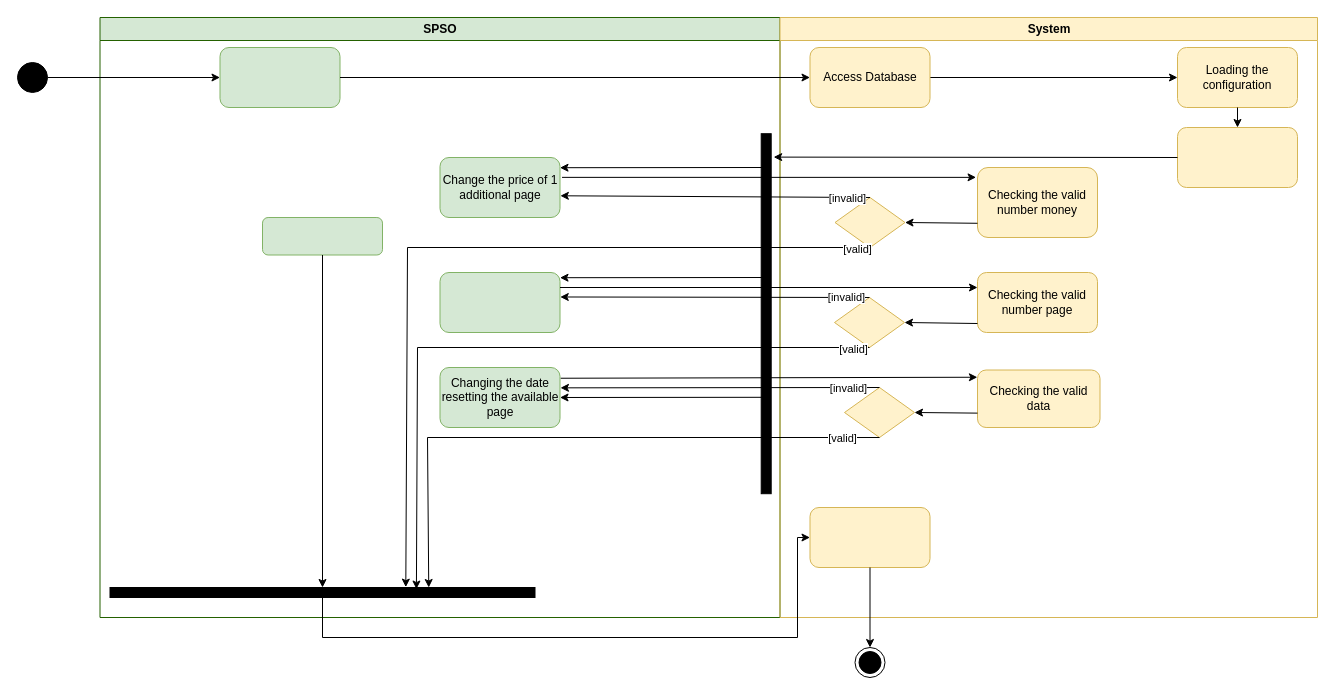
Image size: 1335x695. Some labels were removed from this diagram. Here are the shapes that lost their labels. From the top down, the box of each, then its label:
(219, 46, 340, 108): Configuring printing system
(1176, 126, 1298, 188): Show the configuration menu
(262, 216, 382, 255): Add/ Enable/ Disable printers
(439, 272, 560, 332): Changing number of reset page
(809, 506, 930, 568): Writing the configuration into Database
